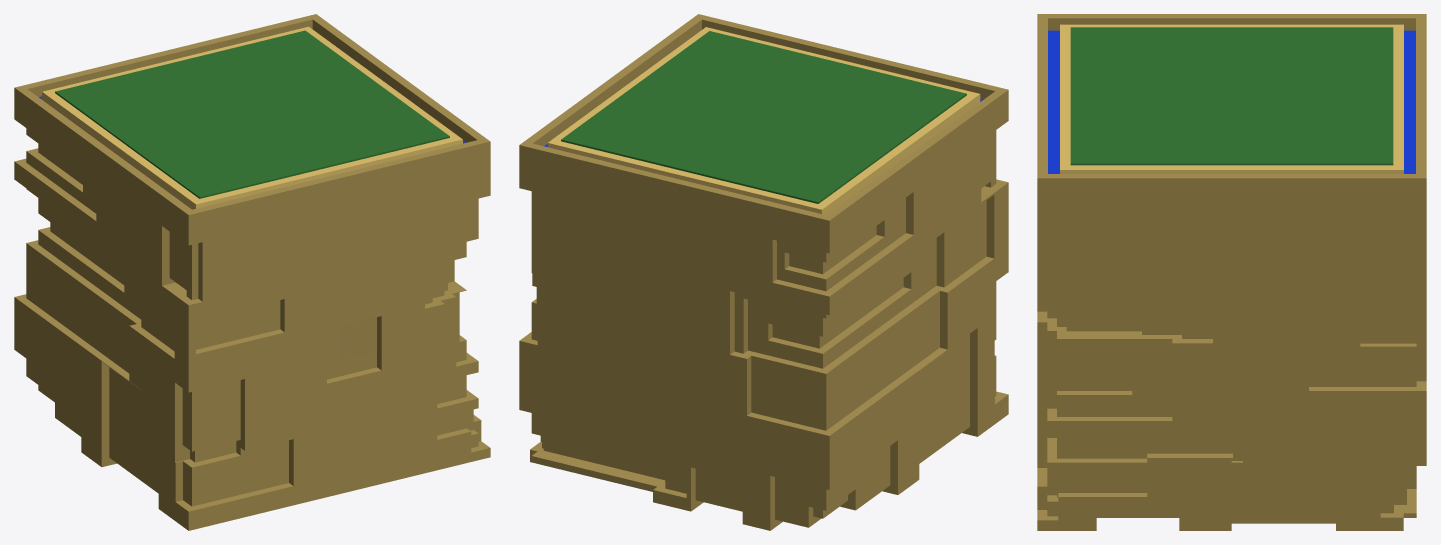
The model's file is Landmass01.fbx.
The picture shows the model from 3 angles, left to right: view 1: azimuth 30°, elevation 25°; view 2: azimuth 150°, elevation 25°; view 3: azimuth 270°, elevation 25°; orthographic projection. The views are drawn at different scales.
Visible parts, largest first — view 1: Landmass; view 2: Landmass; view 3: Landmass.
Part boxes in pixels (x1=…): Landmass: x1=14, y1=14, x2=490, y2=530; Landmass: x1=519, y1=14, x2=1008, y2=530; Landmass: x1=1037, y1=14, x2=1426, y2=530.
Bounding box in the file's own units: 2000 × 2005 × 2000.
